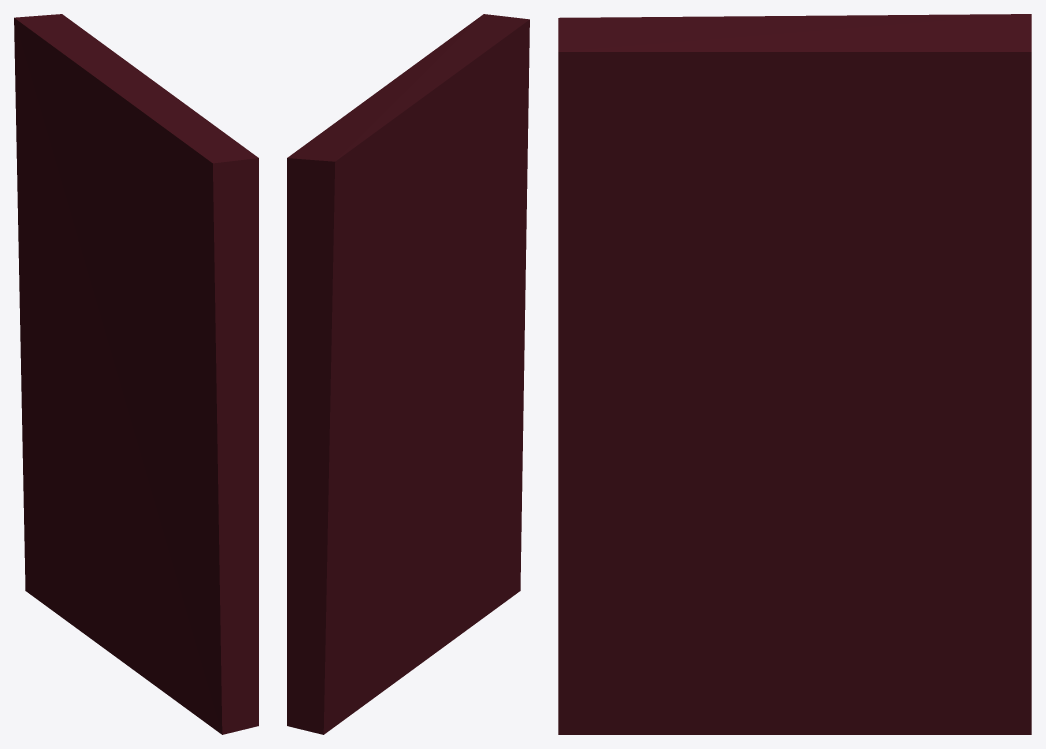
3 renders of one model, left to right at view 1: azimuth 30°, elevation 25°; view 2: azimuth 150°, elevation 25°; view 3: azimuth 270°, elevation 25°, orthographic. The views are drawn at different scales.
Bounding box in the file's own units: 0.3939 × 4.5 × 2.79.
